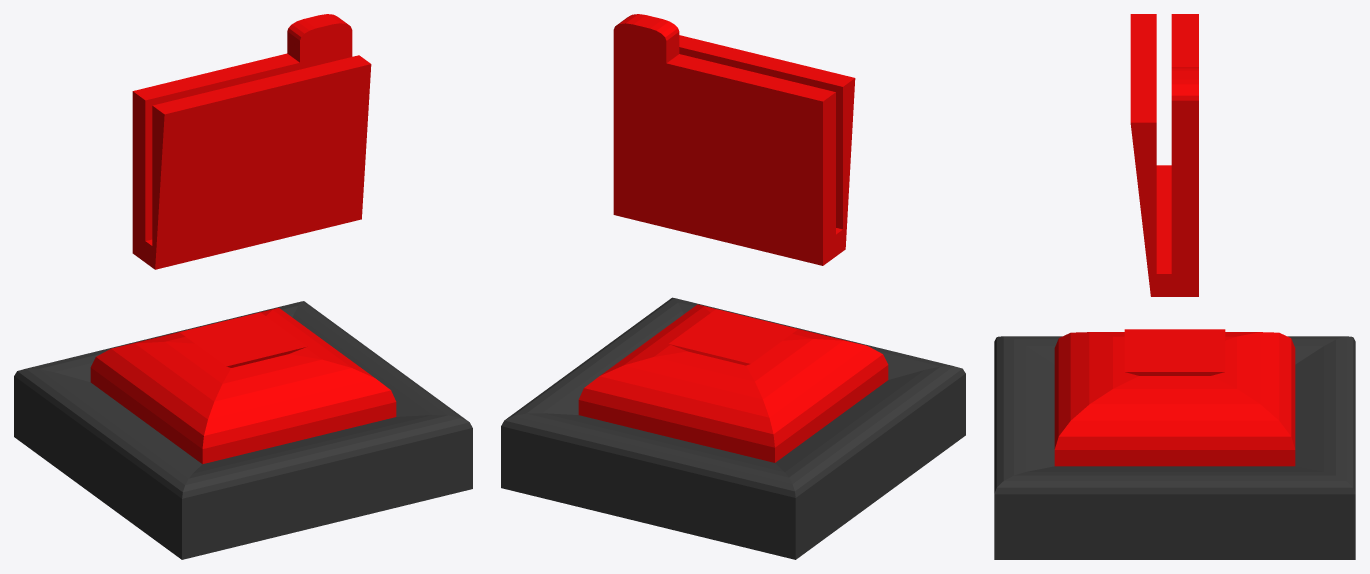
The model's file is Bonus Item Folder.fbx.
The picture shows the model from 3 angles, left to right: view 1: azimuth 30°, elevation 25°; view 2: azimuth 150°, elevation 25°; view 3: azimuth 270°, elevation 25°; orthographic projection. The views are drawn at different scales.
Parts seen in each view (by area): view 1: Bonus; view 2: Bonus; view 3: Bonus.
Boxes of the visible parts, left/top/right/bottom form: Bonus: left=14, top=14, right=472, bottom=559; Bonus: left=501, top=14, right=965, bottom=559; Bonus: left=994, top=14, right=1355, bottom=559.
Bounding box in the file's own units: 300 × 412 × 300.
